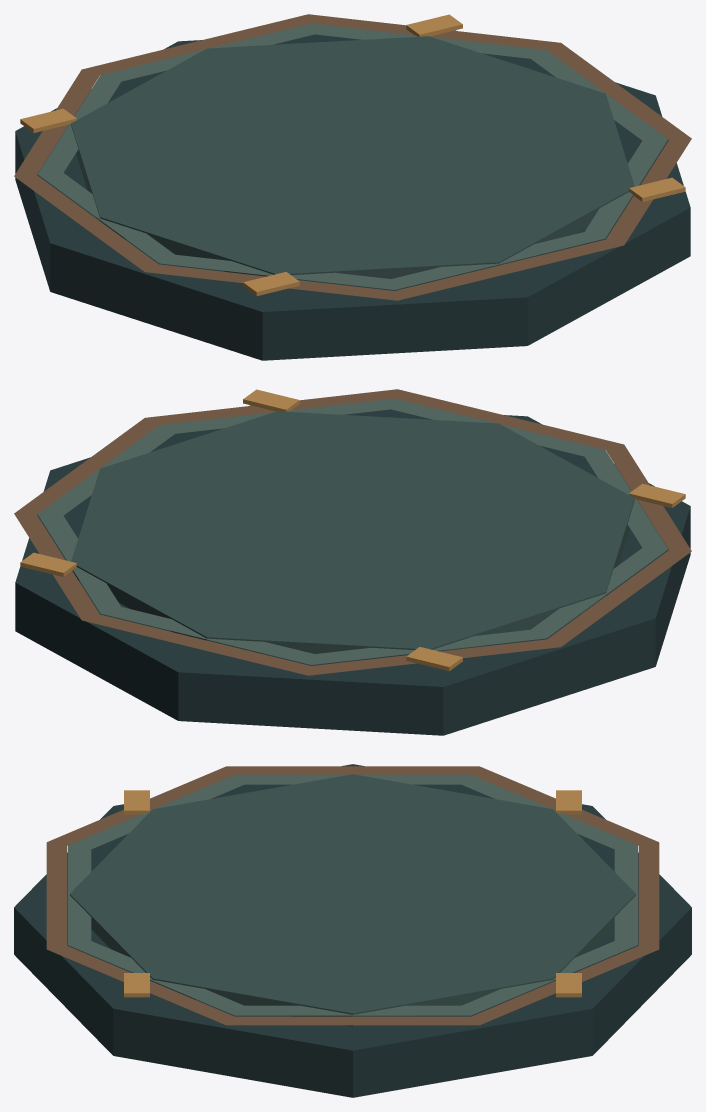
File: Environment_BuildSocket.fbx
The picture shows the model from 3 angles, top to bottom: view 1: azimuth 30°, elevation 25°; view 2: azimuth 150°, elevation 25°; view 3: azimuth 270°, elevation 25°; orthographic projection. The views are drawn at different scales.
Visible parts, largest first — view 1: Environment_BuildSocket; view 2: Environment_BuildSocket; view 3: Environment_BuildSocket.
Part boxes in pixels (bbox=[...]): Environment_BuildSocket: bbox=[14, 14, 691, 360]; Environment_BuildSocket: bbox=[14, 389, 691, 735]; Environment_BuildSocket: bbox=[14, 764, 691, 1097].
Size of the model in its own units: 0.91 by 0.093 by 0.91.
